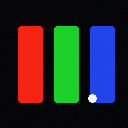0 point: (88, 94, 96, 102)
